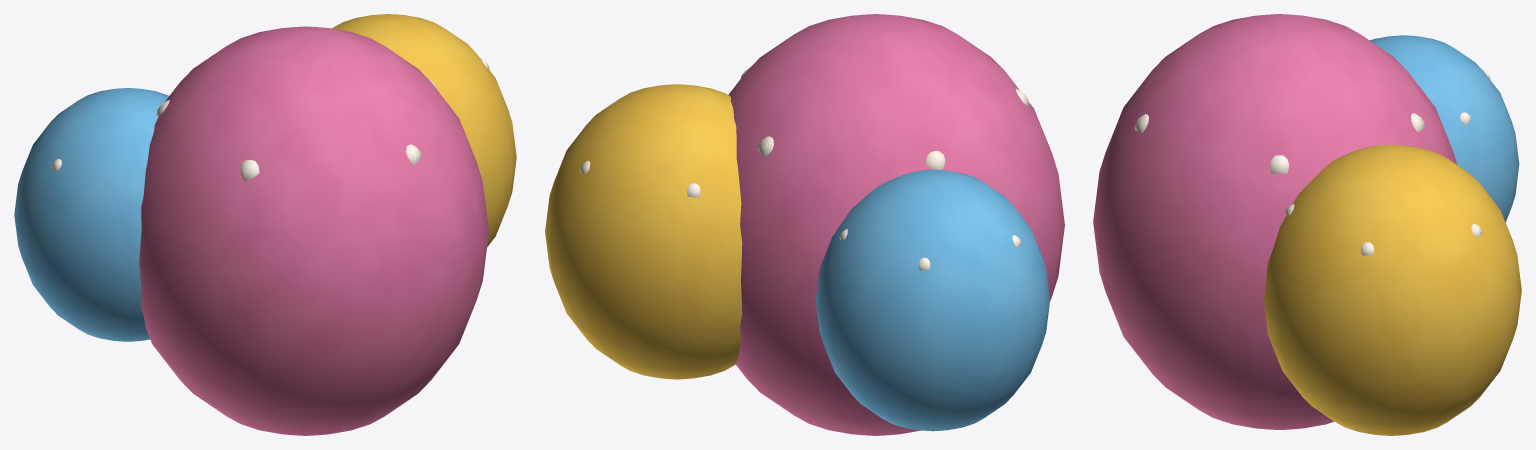
Rendered from gumdrop.glb.
The picture shows the model from 3 angles, left to right: view 1: azimuth 30°, elevation 25°; view 2: azimuth 150°, elevation 25°; view 3: azimuth 270°, elevation 25°; orthographic projection. The views are drawn at different scales.
Parts seen in each view (by area): view 1: gumdrop_body; view 2: gumdrop_body; view 3: gumdrop_body.
Part boxes in pixels (bbox=[...]): gumdrop_body: bbox=[14, 14, 516, 435]; gumdrop_body: bbox=[545, 14, 1064, 435]; gumdrop_body: bbox=[1093, 14, 1521, 435].
Size of the model in its own units: 0.876 by 0.69 by 0.69.
2 materials, 1 textured.
